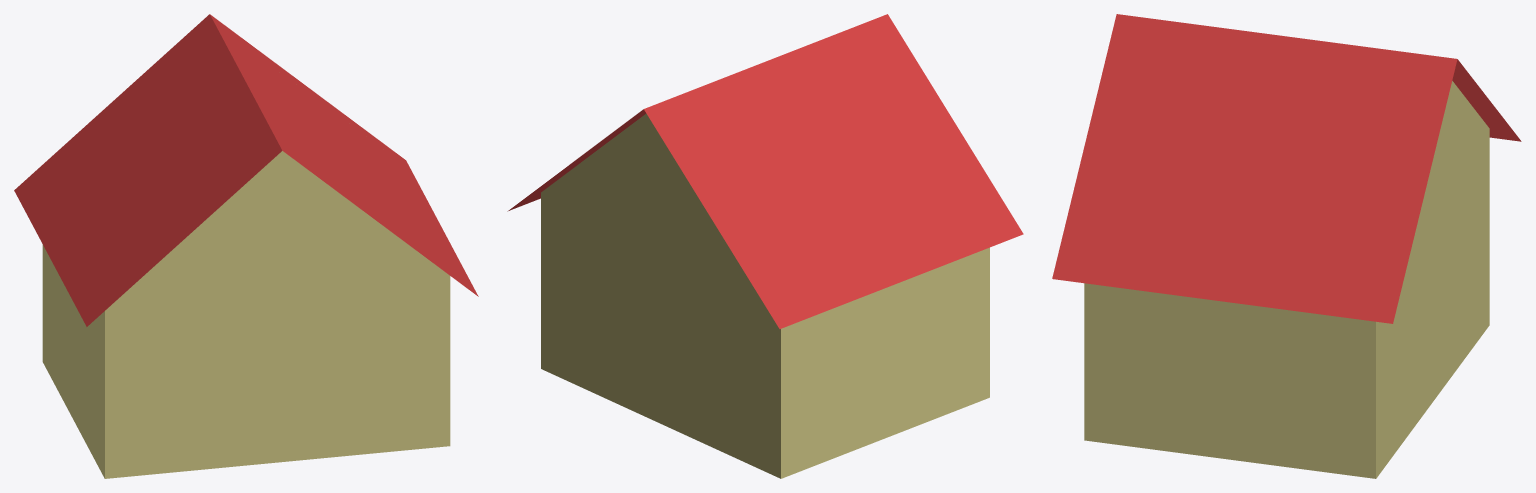
The picture shows the model from 3 angles, left to right: view 1: azimuth 30°, elevation 25°; view 2: azimuth 150°, elevation 25°; view 3: azimuth 270°, elevation 25°; orthographic projection. The views are drawn at different scales.
Size of the model in its own units: 20.22 by 18.29 by 14.88.
